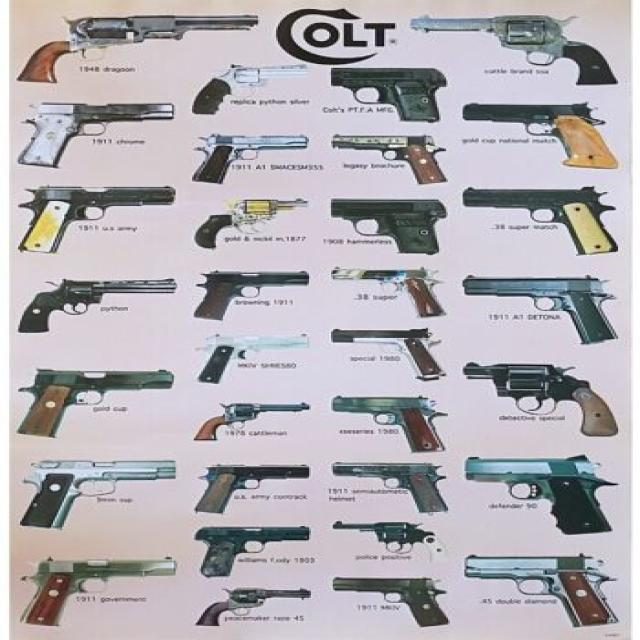HandGun: (18, 15, 260, 83), (410, 15, 618, 86), (464, 456, 618, 535), (463, 362, 618, 438), (20, 460, 179, 534), (466, 557, 620, 630), (16, 369, 176, 439), (461, 276, 616, 346), (20, 557, 177, 626), (461, 187, 618, 256), (18, 187, 176, 255), (16, 102, 176, 168), (461, 104, 618, 169), (22, 279, 176, 334), (331, 396, 448, 453), (331, 200, 448, 256), (329, 68, 448, 123), (333, 463, 448, 515), (194, 526, 311, 577), (192, 64, 309, 115), (194, 198, 307, 250), (329, 329, 444, 380), (331, 268, 446, 319), (333, 577, 450, 627), (194, 334, 311, 384), (192, 271, 309, 321), (192, 134, 309, 184), (331, 136, 448, 186), (196, 465, 311, 515), (333, 521, 452, 564), (197, 586, 313, 626), (194, 403, 309, 442)
